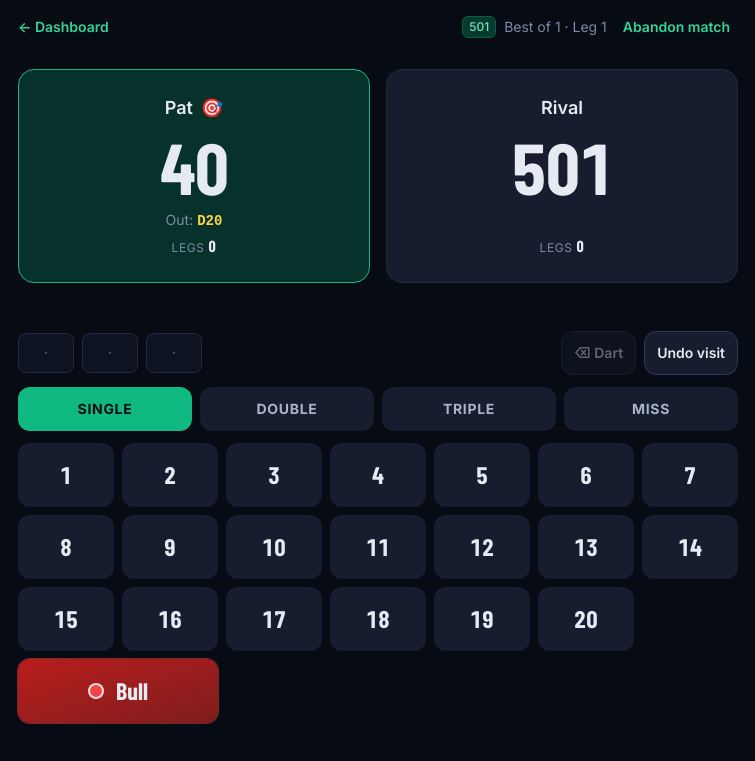
LiveScoringPage 501 feedback › shakes the card and names the bust when the server rejects the visit
Expected: the text "40" is shown, [160,123,228,209]
Note: 20 + 20 leaves 0 without a double: the UI submits, the server busts it.
Click the button "20".
click(586, 619)  # box [538,587,634,651]
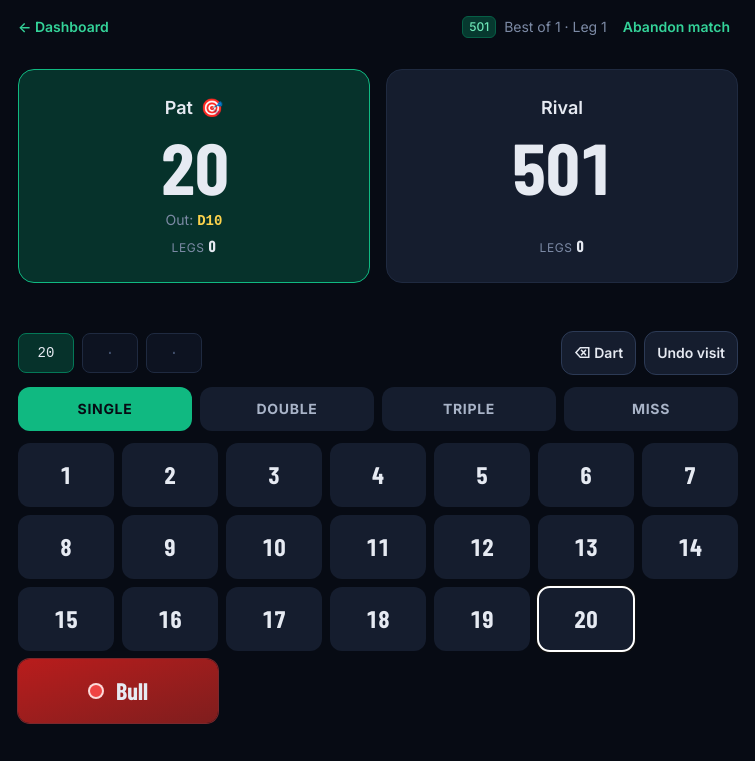
Click the button "20".
click(586, 619)  # box [538,587,634,651]
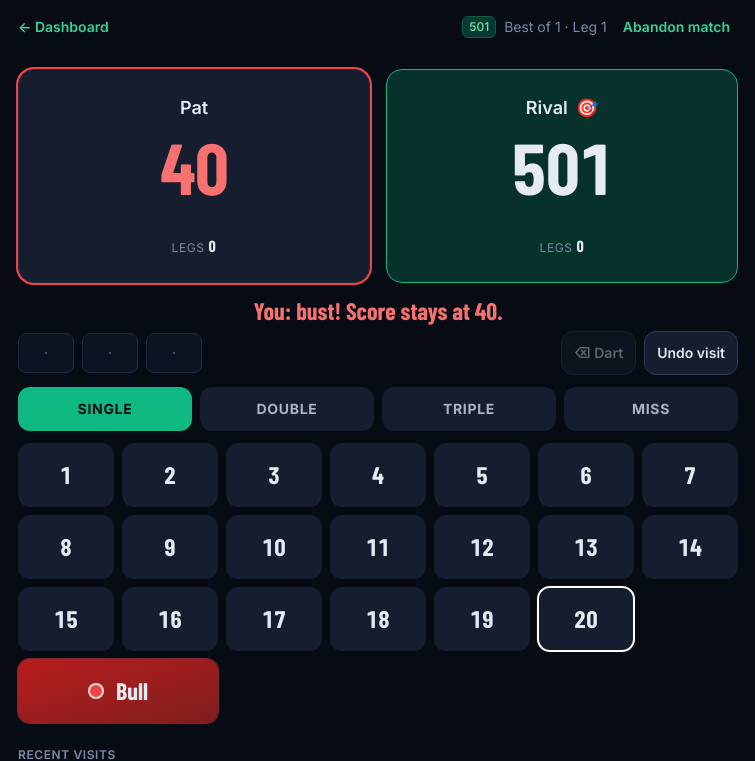
Now the message shows "bust", box [254,296,503,325]
